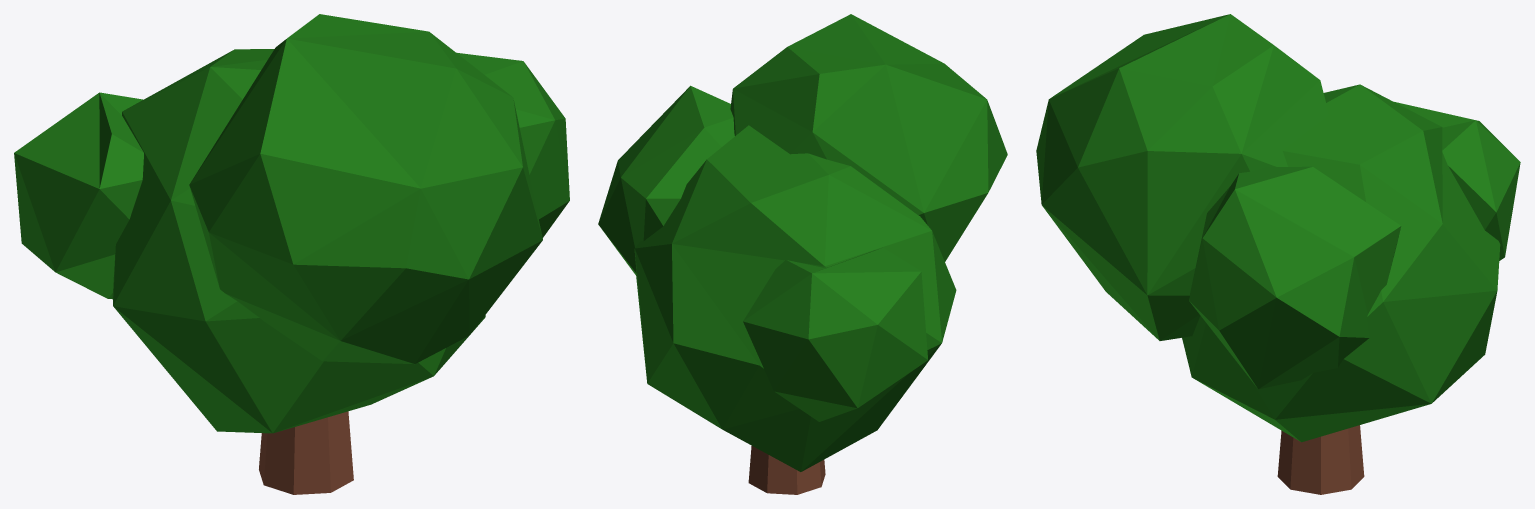
The model's file is bush_5_summer_vc.fbx.
The picture shows the model from 3 angles, left to right: view 1: azimuth 30°, elevation 25°; view 2: azimuth 150°, elevation 25°; view 3: azimuth 270°, elevation 25°; orthographic projection. The views are drawn at different scales.
Visible parts, largest first — view 1: bush_5_summer_vc; view 2: bush_5_summer_vc; view 3: bush_5_summer_vc.
Part boxes in pixels (bbox=[...]): bush_5_summer_vc: bbox=[14, 14, 569, 494]; bush_5_summer_vc: bbox=[598, 14, 1007, 494]; bush_5_summer_vc: bbox=[1036, 14, 1520, 494].
Size of the model in its own units: 81.48 by 85.61 by 86.93.
